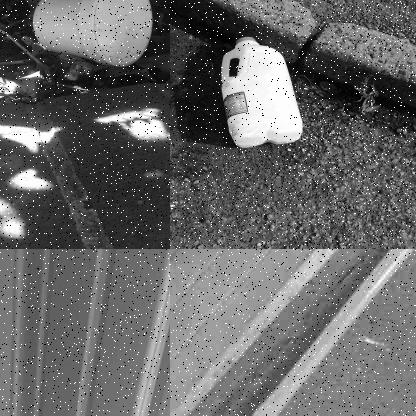plastic: (235, 249, 415, 415), (215, 28, 308, 146), (32, 0, 154, 60)
